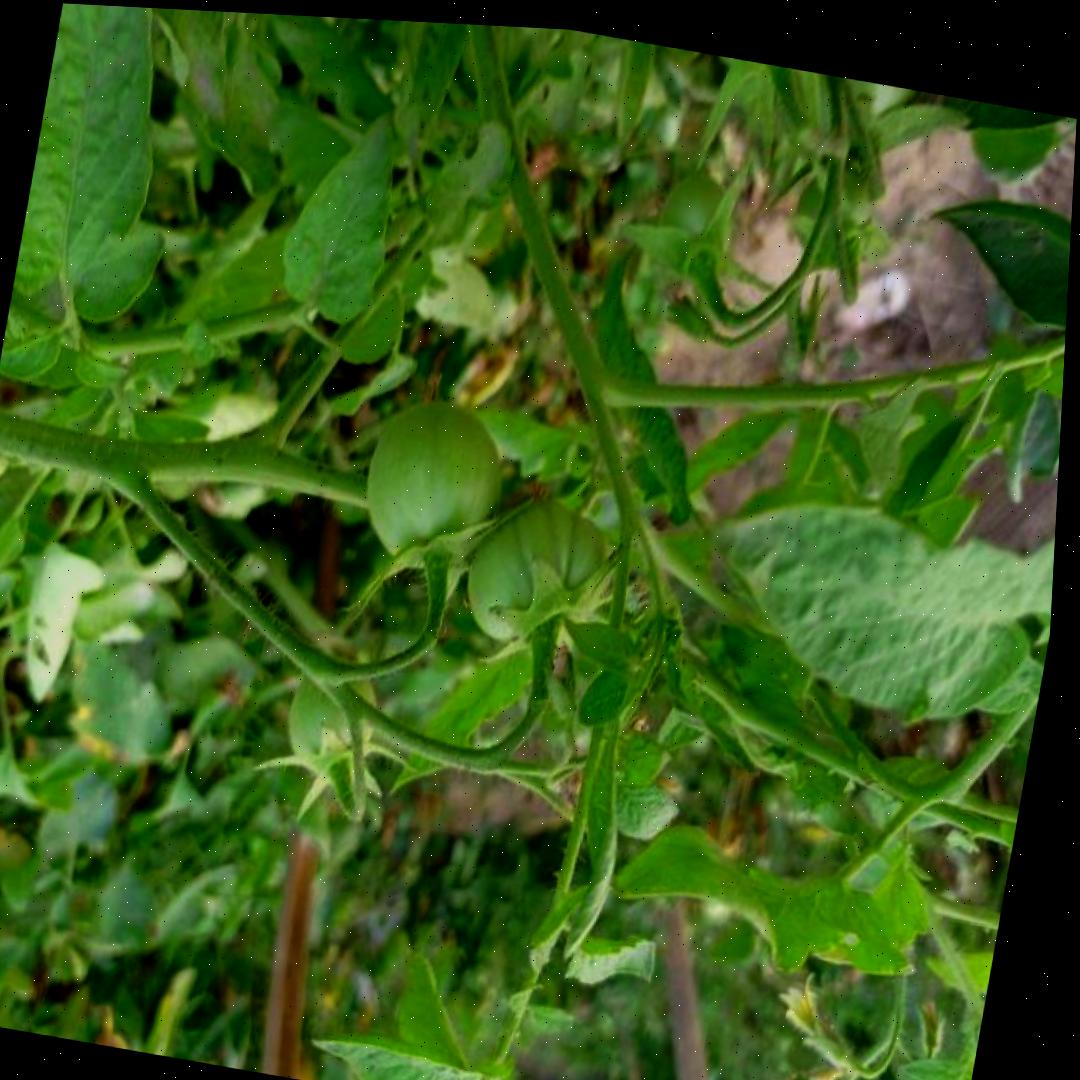mentah: (351, 389, 514, 580), (452, 484, 615, 665), (279, 650, 385, 784), (647, 171, 744, 292)
